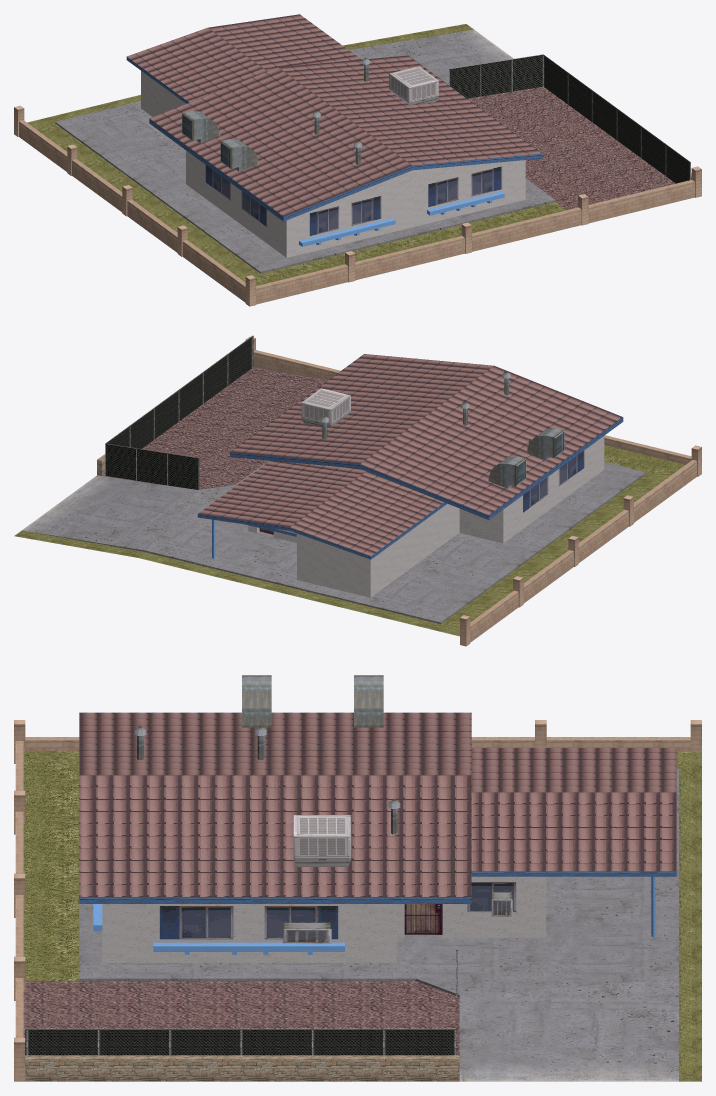
File: shabbyhouse02_lvs.obj
The picture shows the model from 3 angles, top to bottom: view 1: azimuth 30°, elevation 25°; view 2: azimuth 150°, elevation 25°; view 3: azimuth 270°, elevation 25°; orthographic projection. The views are drawn at different scales.
Visible parts, largest first — view 1: shabbyhouse02_lvs; view 2: shabbyhouse02_lvs; view 3: shabbyhouse02_lvs.
Boxes of the visible parts, x1,y1,x2,y2 form: shabbyhouse02_lvs: (14,14,701,306); shabbyhouse02_lvs: (14,335,701,646); shabbyhouse02_lvs: (14,675,701,1081).
Size of the model in its own units: 30.06 by 6.18 by 27.12.
Materials: 19 (19 with a texture image).
